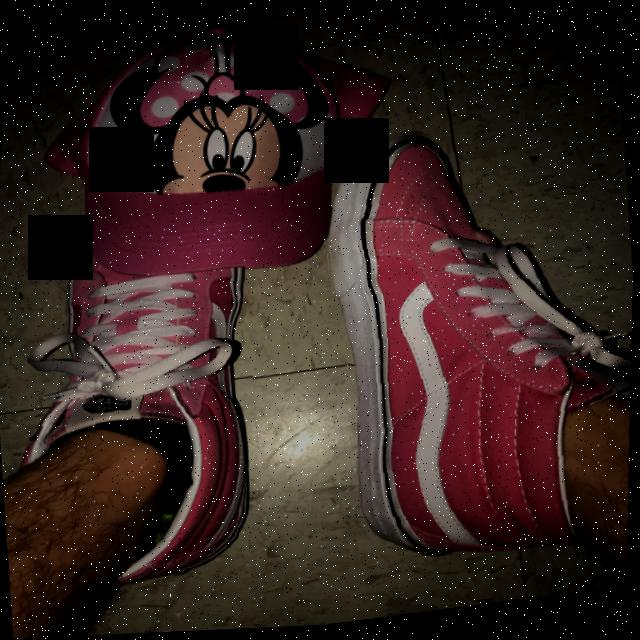shoe: (310, 106, 638, 576), (6, 197, 274, 599)
